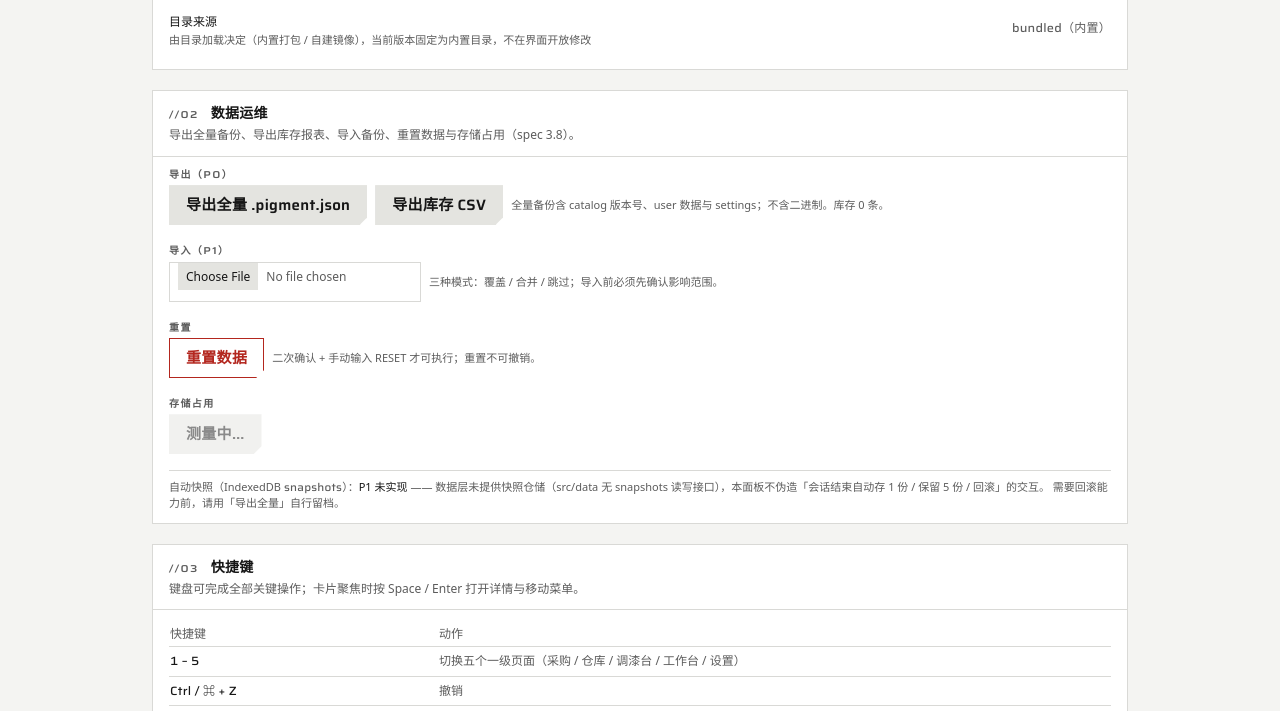
Test: 设置页（spec 3.7 / 3.8 / 3.9 / 10.1） › 重置在未输入 RESET 前不可执行，输入 RESET 后才解禁
(page scrolled)
Click the button "重置数据" at (217, 358), box [169,338,264,378]
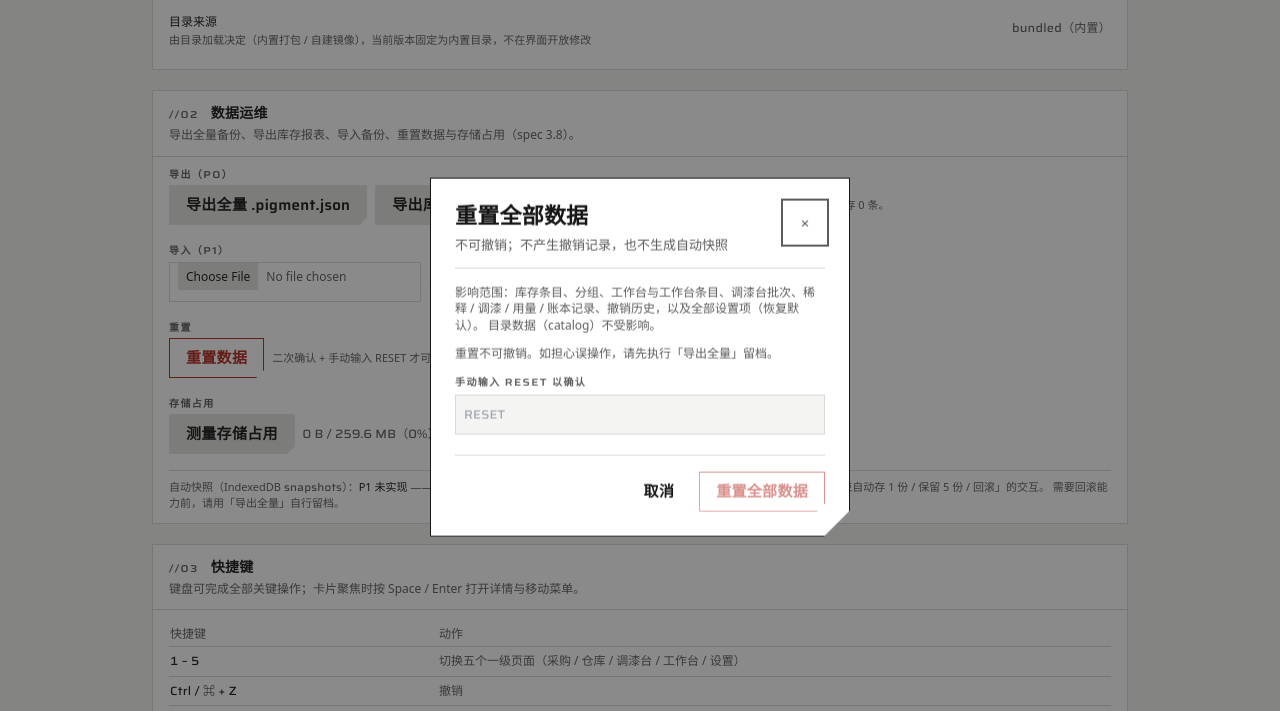
Expected: the text "重置不可撤销" is shown, [272,350,541,365]
Expected: the button "重置全部数据" is disabled, [699,471,825,511]
Type "reset" into the field named "输入 RESET 确认" at (640, 414), box [455,394,825,434]
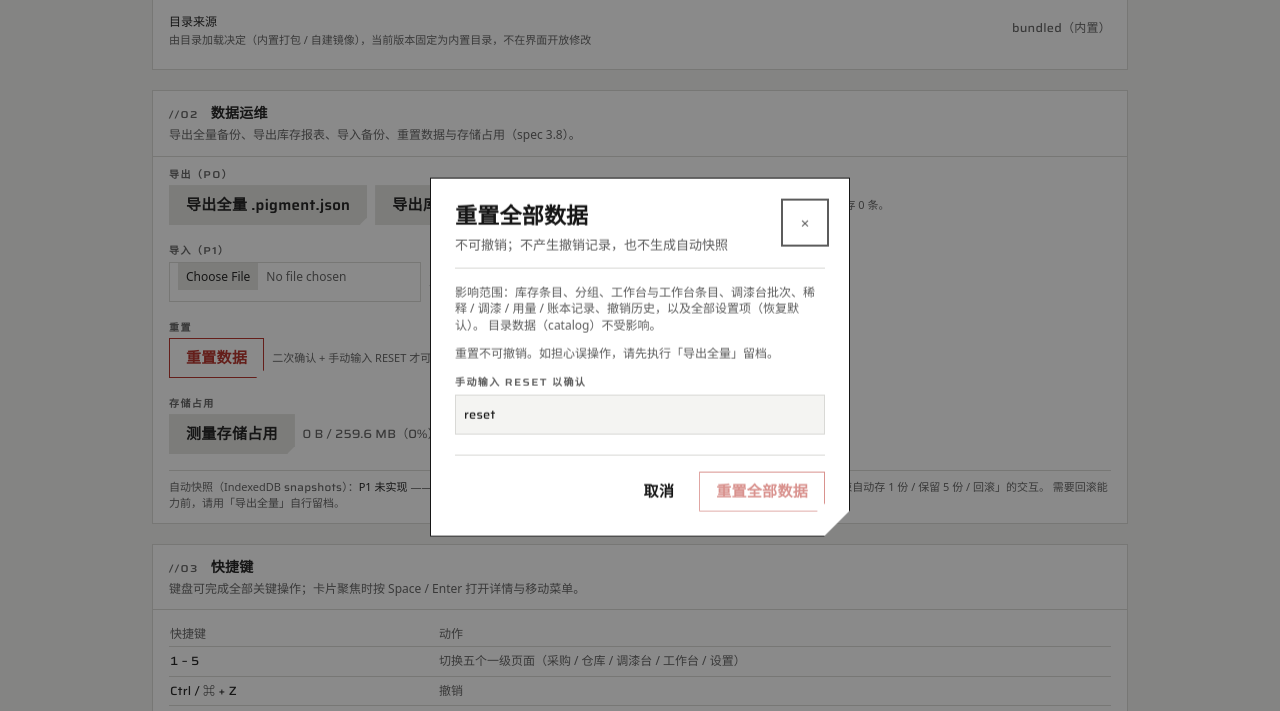
Expected: the button "重置全部数据" is disabled, [699,471,825,511]
Replace the text in the field named "输入 RESET 确认" with "RESET" at (640, 414), box [455,394,825,434]
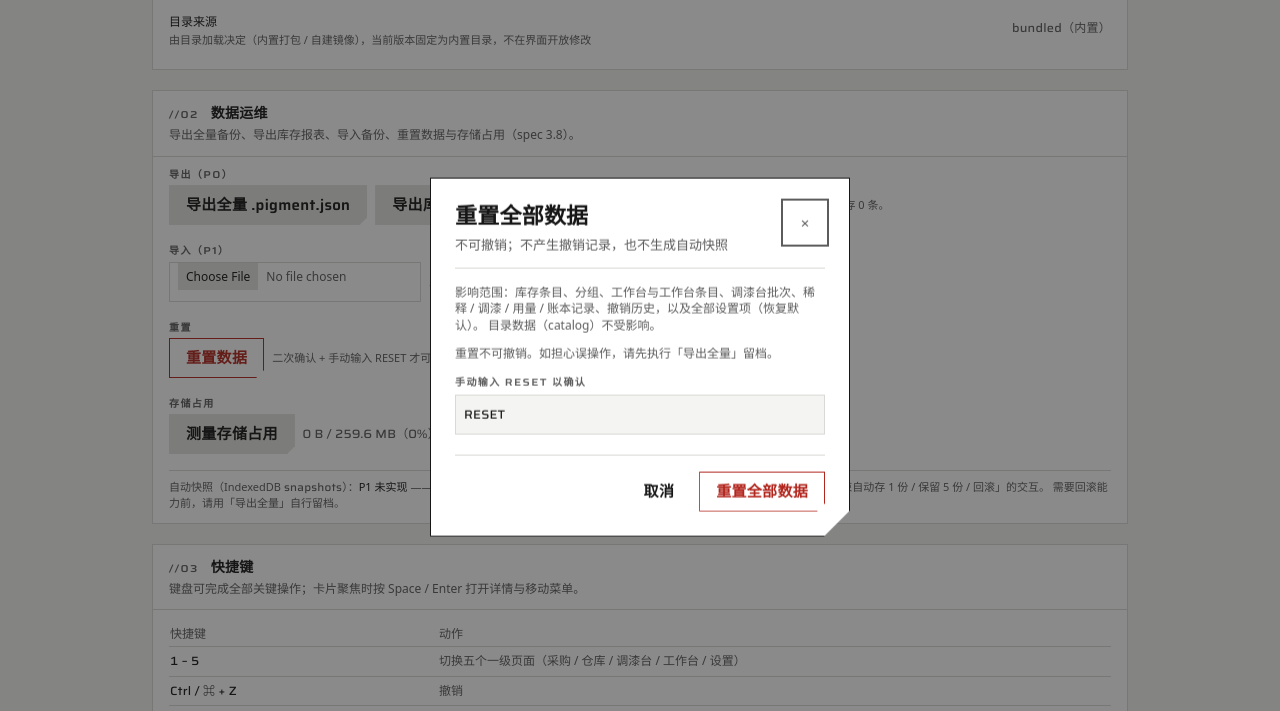
Expected: the button "重置全部数据" is enabled, [699,471,825,511]
